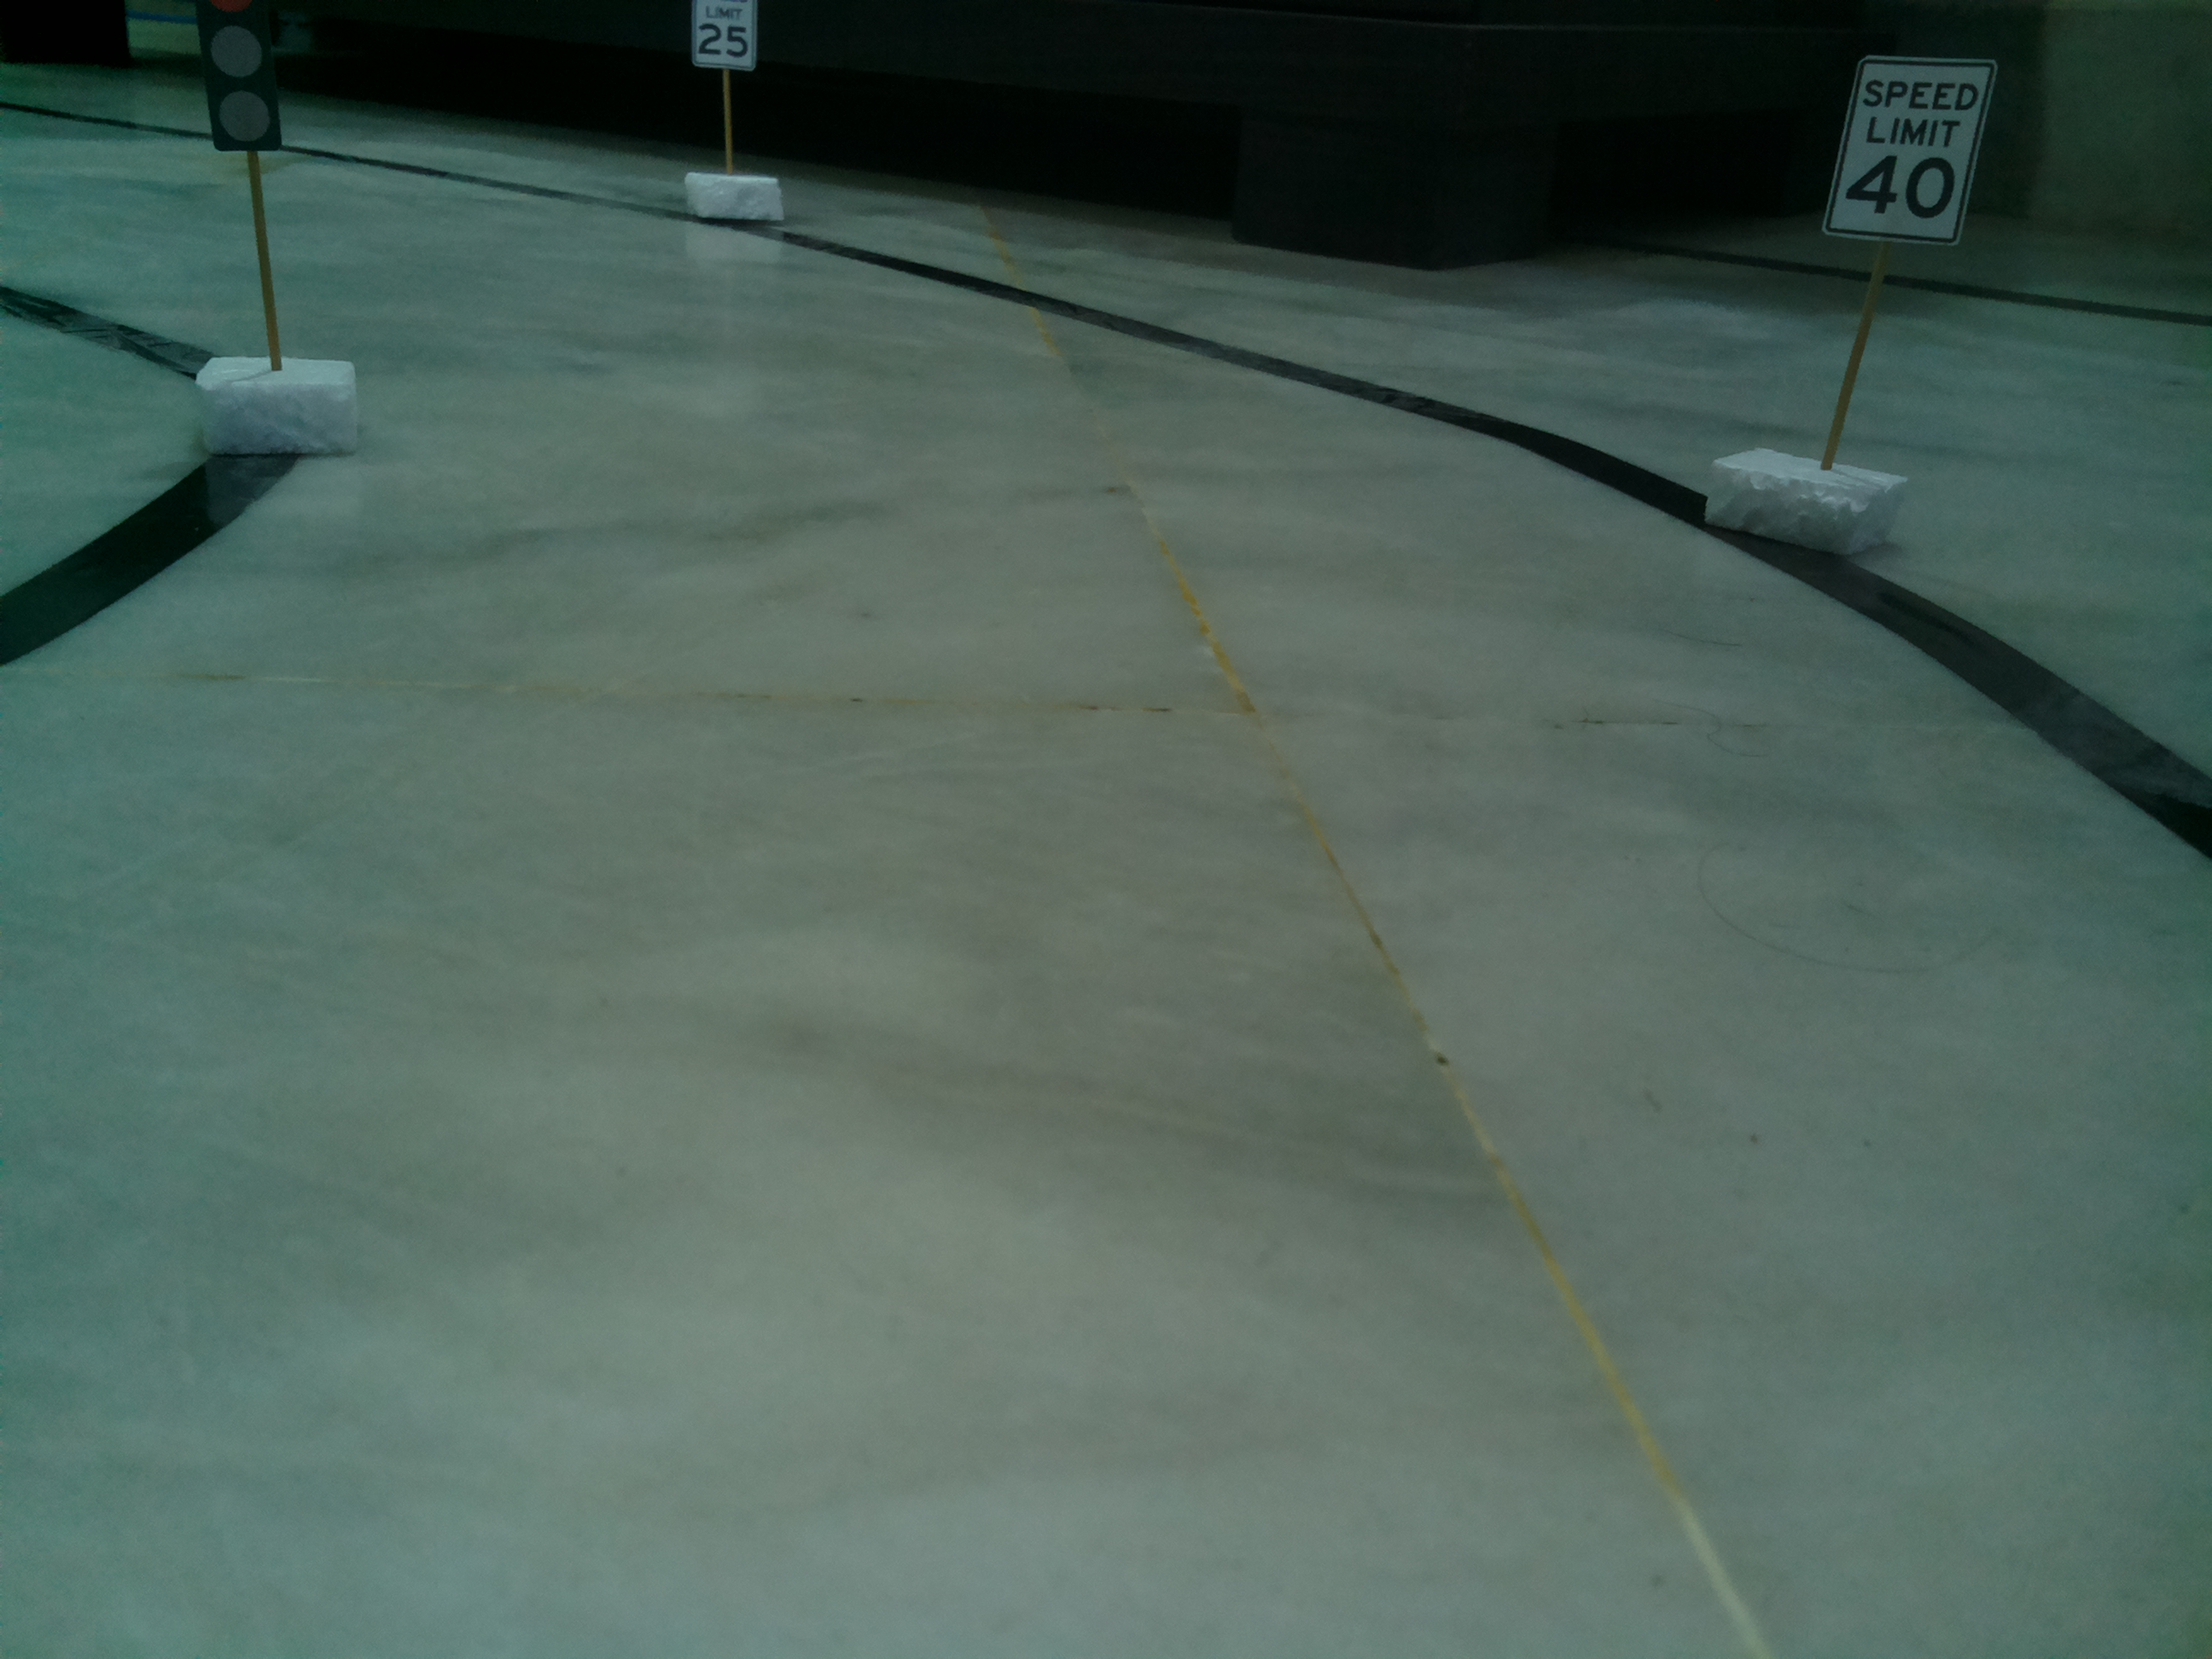Speed limit 25: (686, 3, 763, 77)
Speed limit 40: (1818, 49, 2000, 251)
